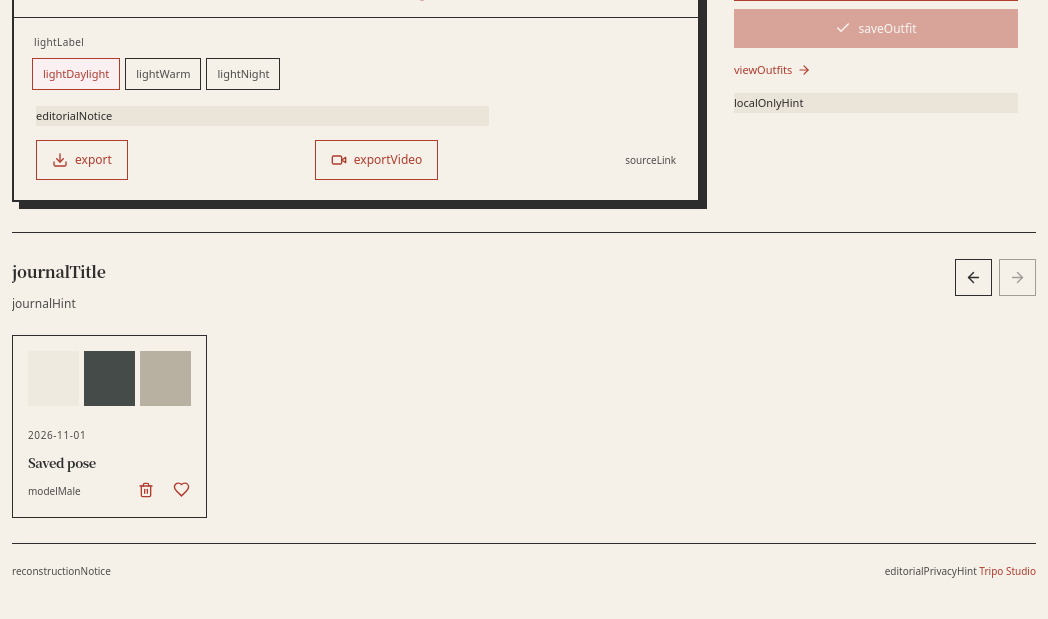
Test: 3D avatar workspace › restores saved scene controls, date and owned clothes without automatically creating an outfit
(page scrolled)
Click the button with aria-label "restoreLook Saved pose" at (110, 426), box [13,336,206,517]
(page scrolled)
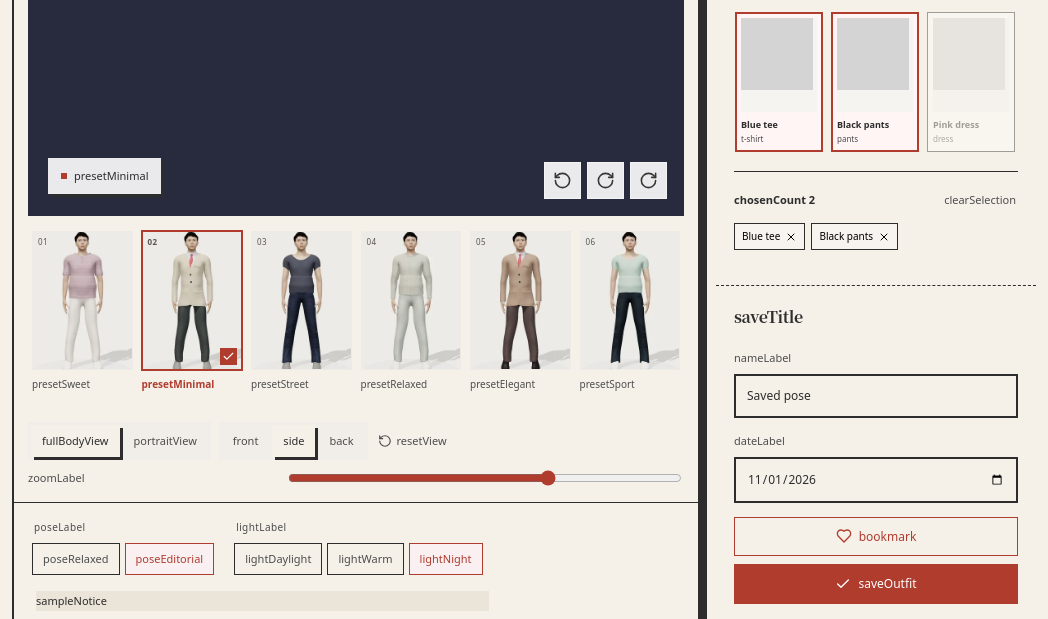
Expected: the date field labelled "dateLabel" holds "2026-11-01", [734,457,1018,502]
Expected: the field labelled "nameLabel" holds "Saved pose", [734,374,1018,418]
Expected: the button with aria-label "removeItem Blue tee" is shown, [734,223,805,250]
